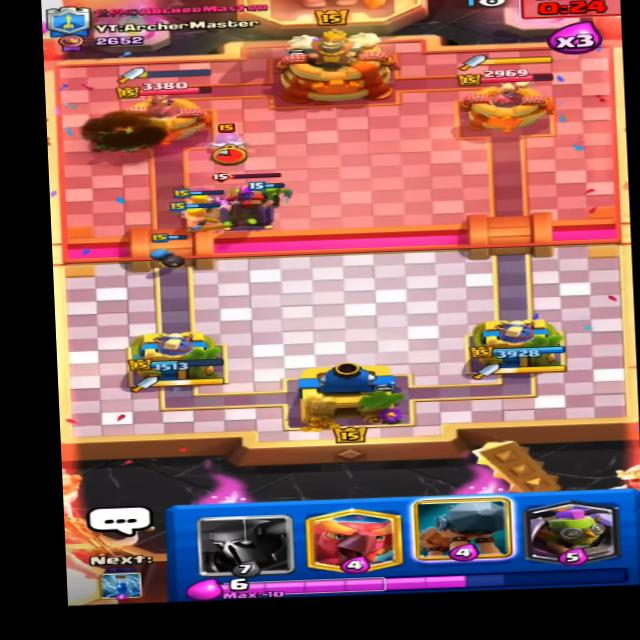Espirit: (210, 117, 258, 156)
Evotesla: (208, 168, 297, 232)
